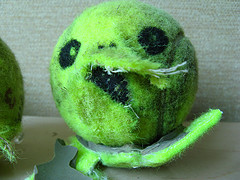tennis ball: (47, 2, 201, 150), (1, 41, 26, 153)
